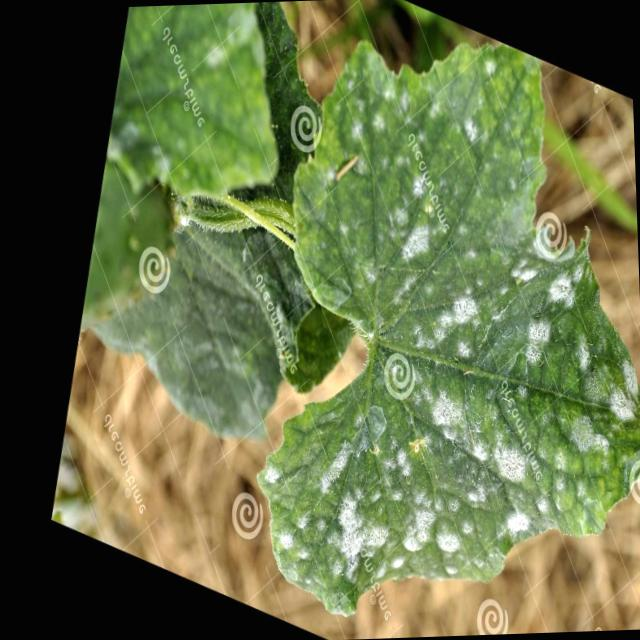Powdery_Mildew: (236, 18, 640, 607)
